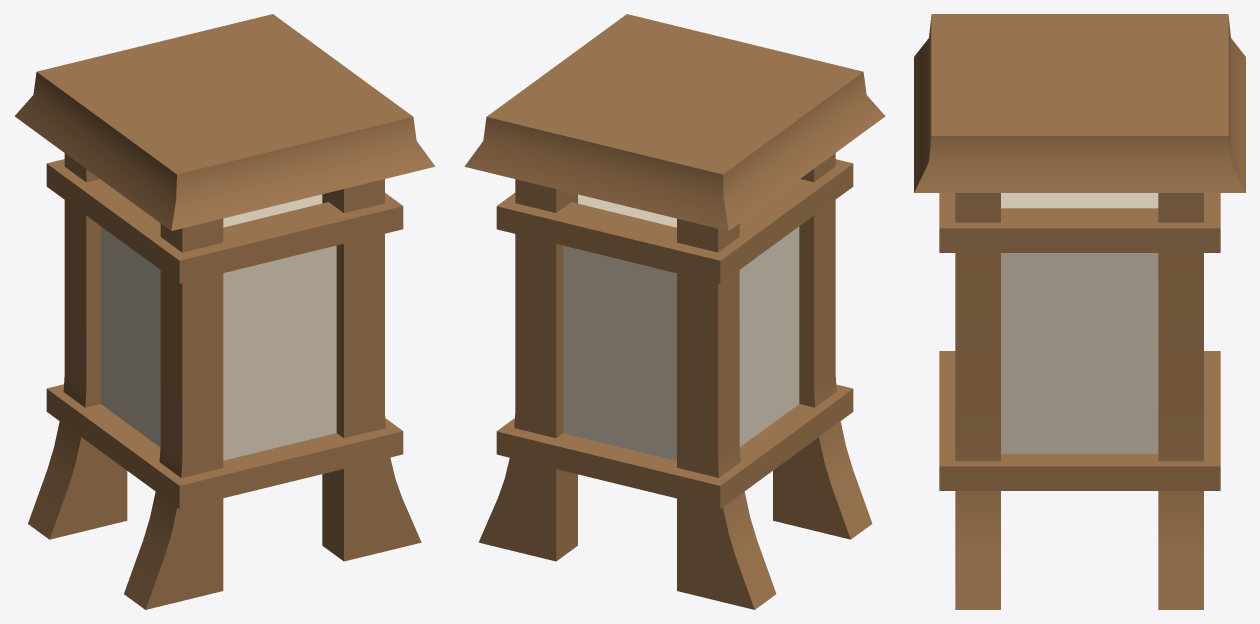
The model's file is Decoration Light.glb.
3 renders of one model, left to right at view 1: azimuth 30°, elevation 25°; view 2: azimuth 150°, elevation 25°; view 3: azimuth 270°, elevation 25°, orthographic. The views are drawn at different scales.
Visible parts, largest first — view 1: Decoration_Light; view 2: Decoration_Light; view 3: Decoration_Light.
Part boxes in pixels (box(x1,y1,x2,y2)): Decoration_Light: box(14, 14, 434, 609); Decoration_Light: box(464, 14, 885, 609); Decoration_Light: box(914, 14, 1245, 609).
Size of the model in its own units: 0.8943 by 1.36 by 0.8802.
2 materials, 1 textured.
